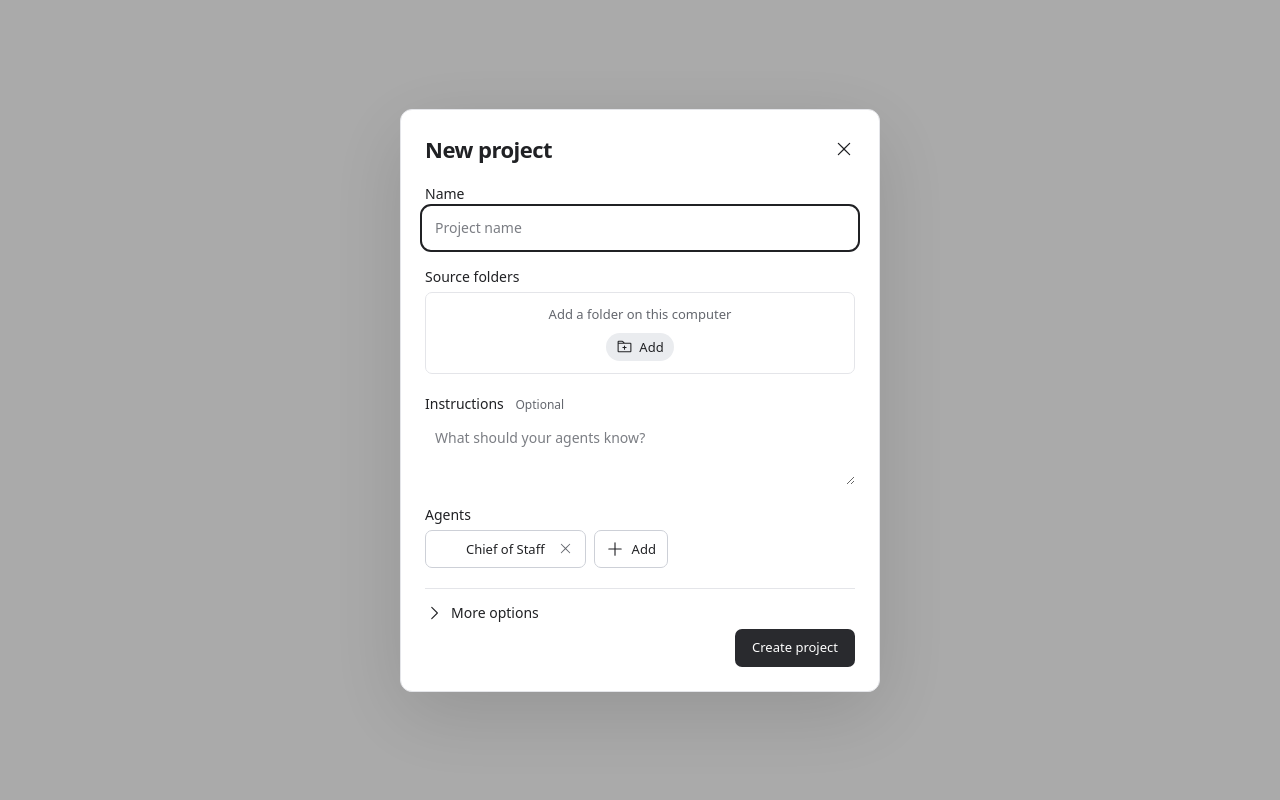
it: minimal project creation › keeps the default surface concise and makes coordinator settings opt-in
Type "Launch" into the field labelled "Name" at x=640, y=228, box [425,208,855,246]
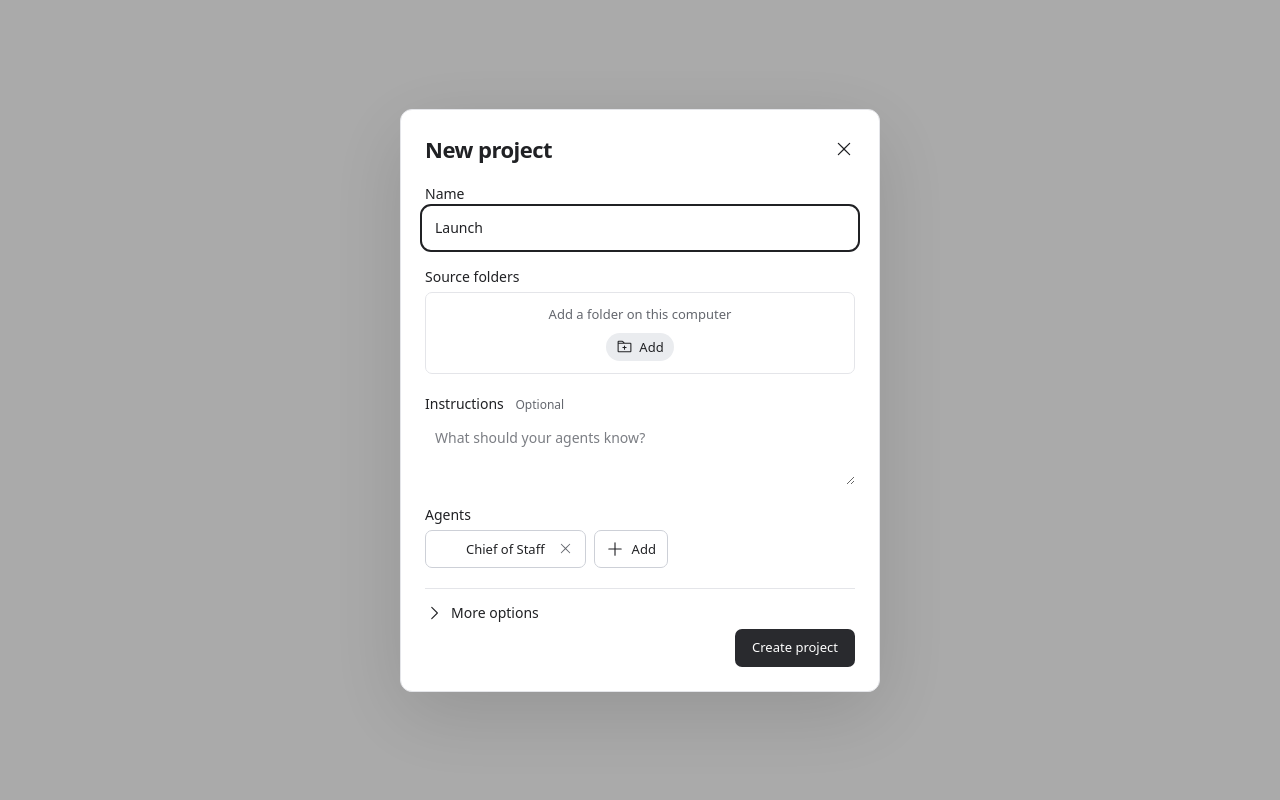
Check: the button named "Remove Chief of Staff" is shown, box [552,534,580,562]
Click the heading "More options" at x=482, y=612, box [425,603,539,622]
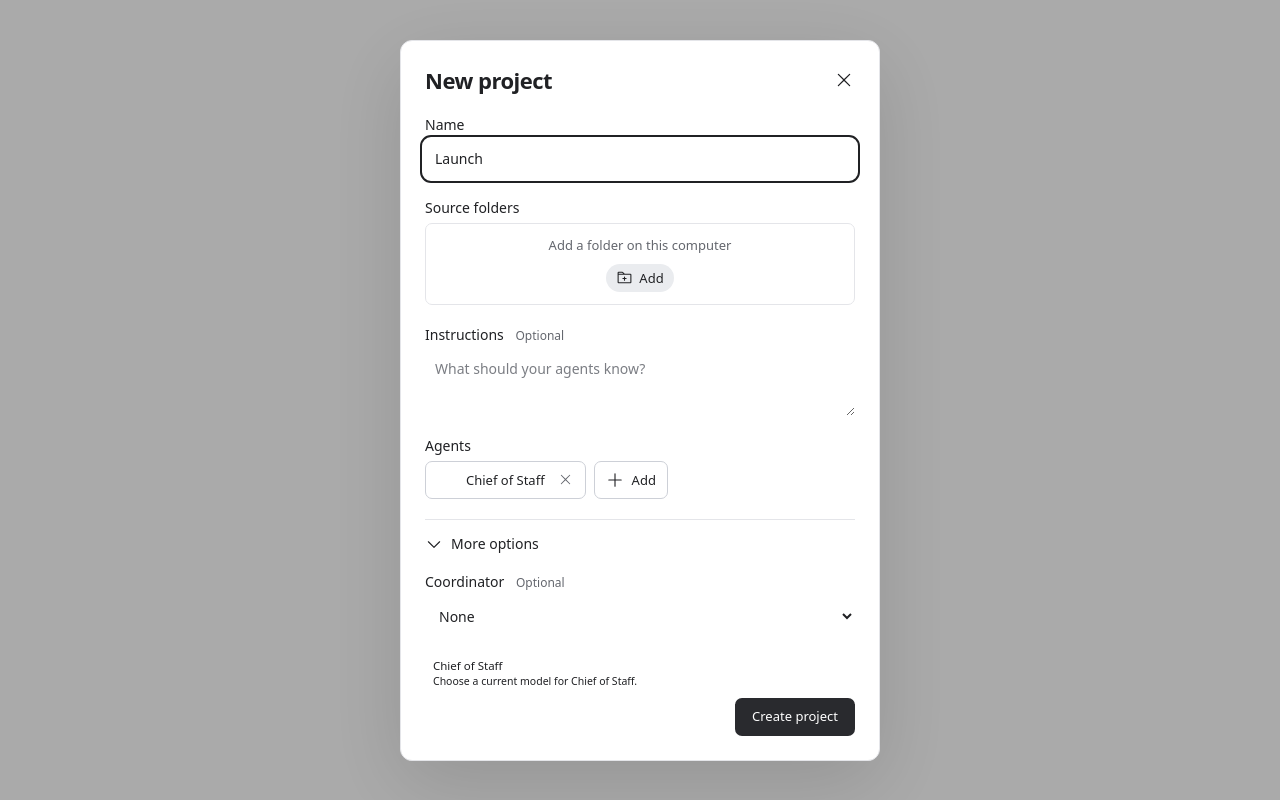
Check: the dropdown labelled "Coordinator Optional" shows "None", box [425,596,855,636]
